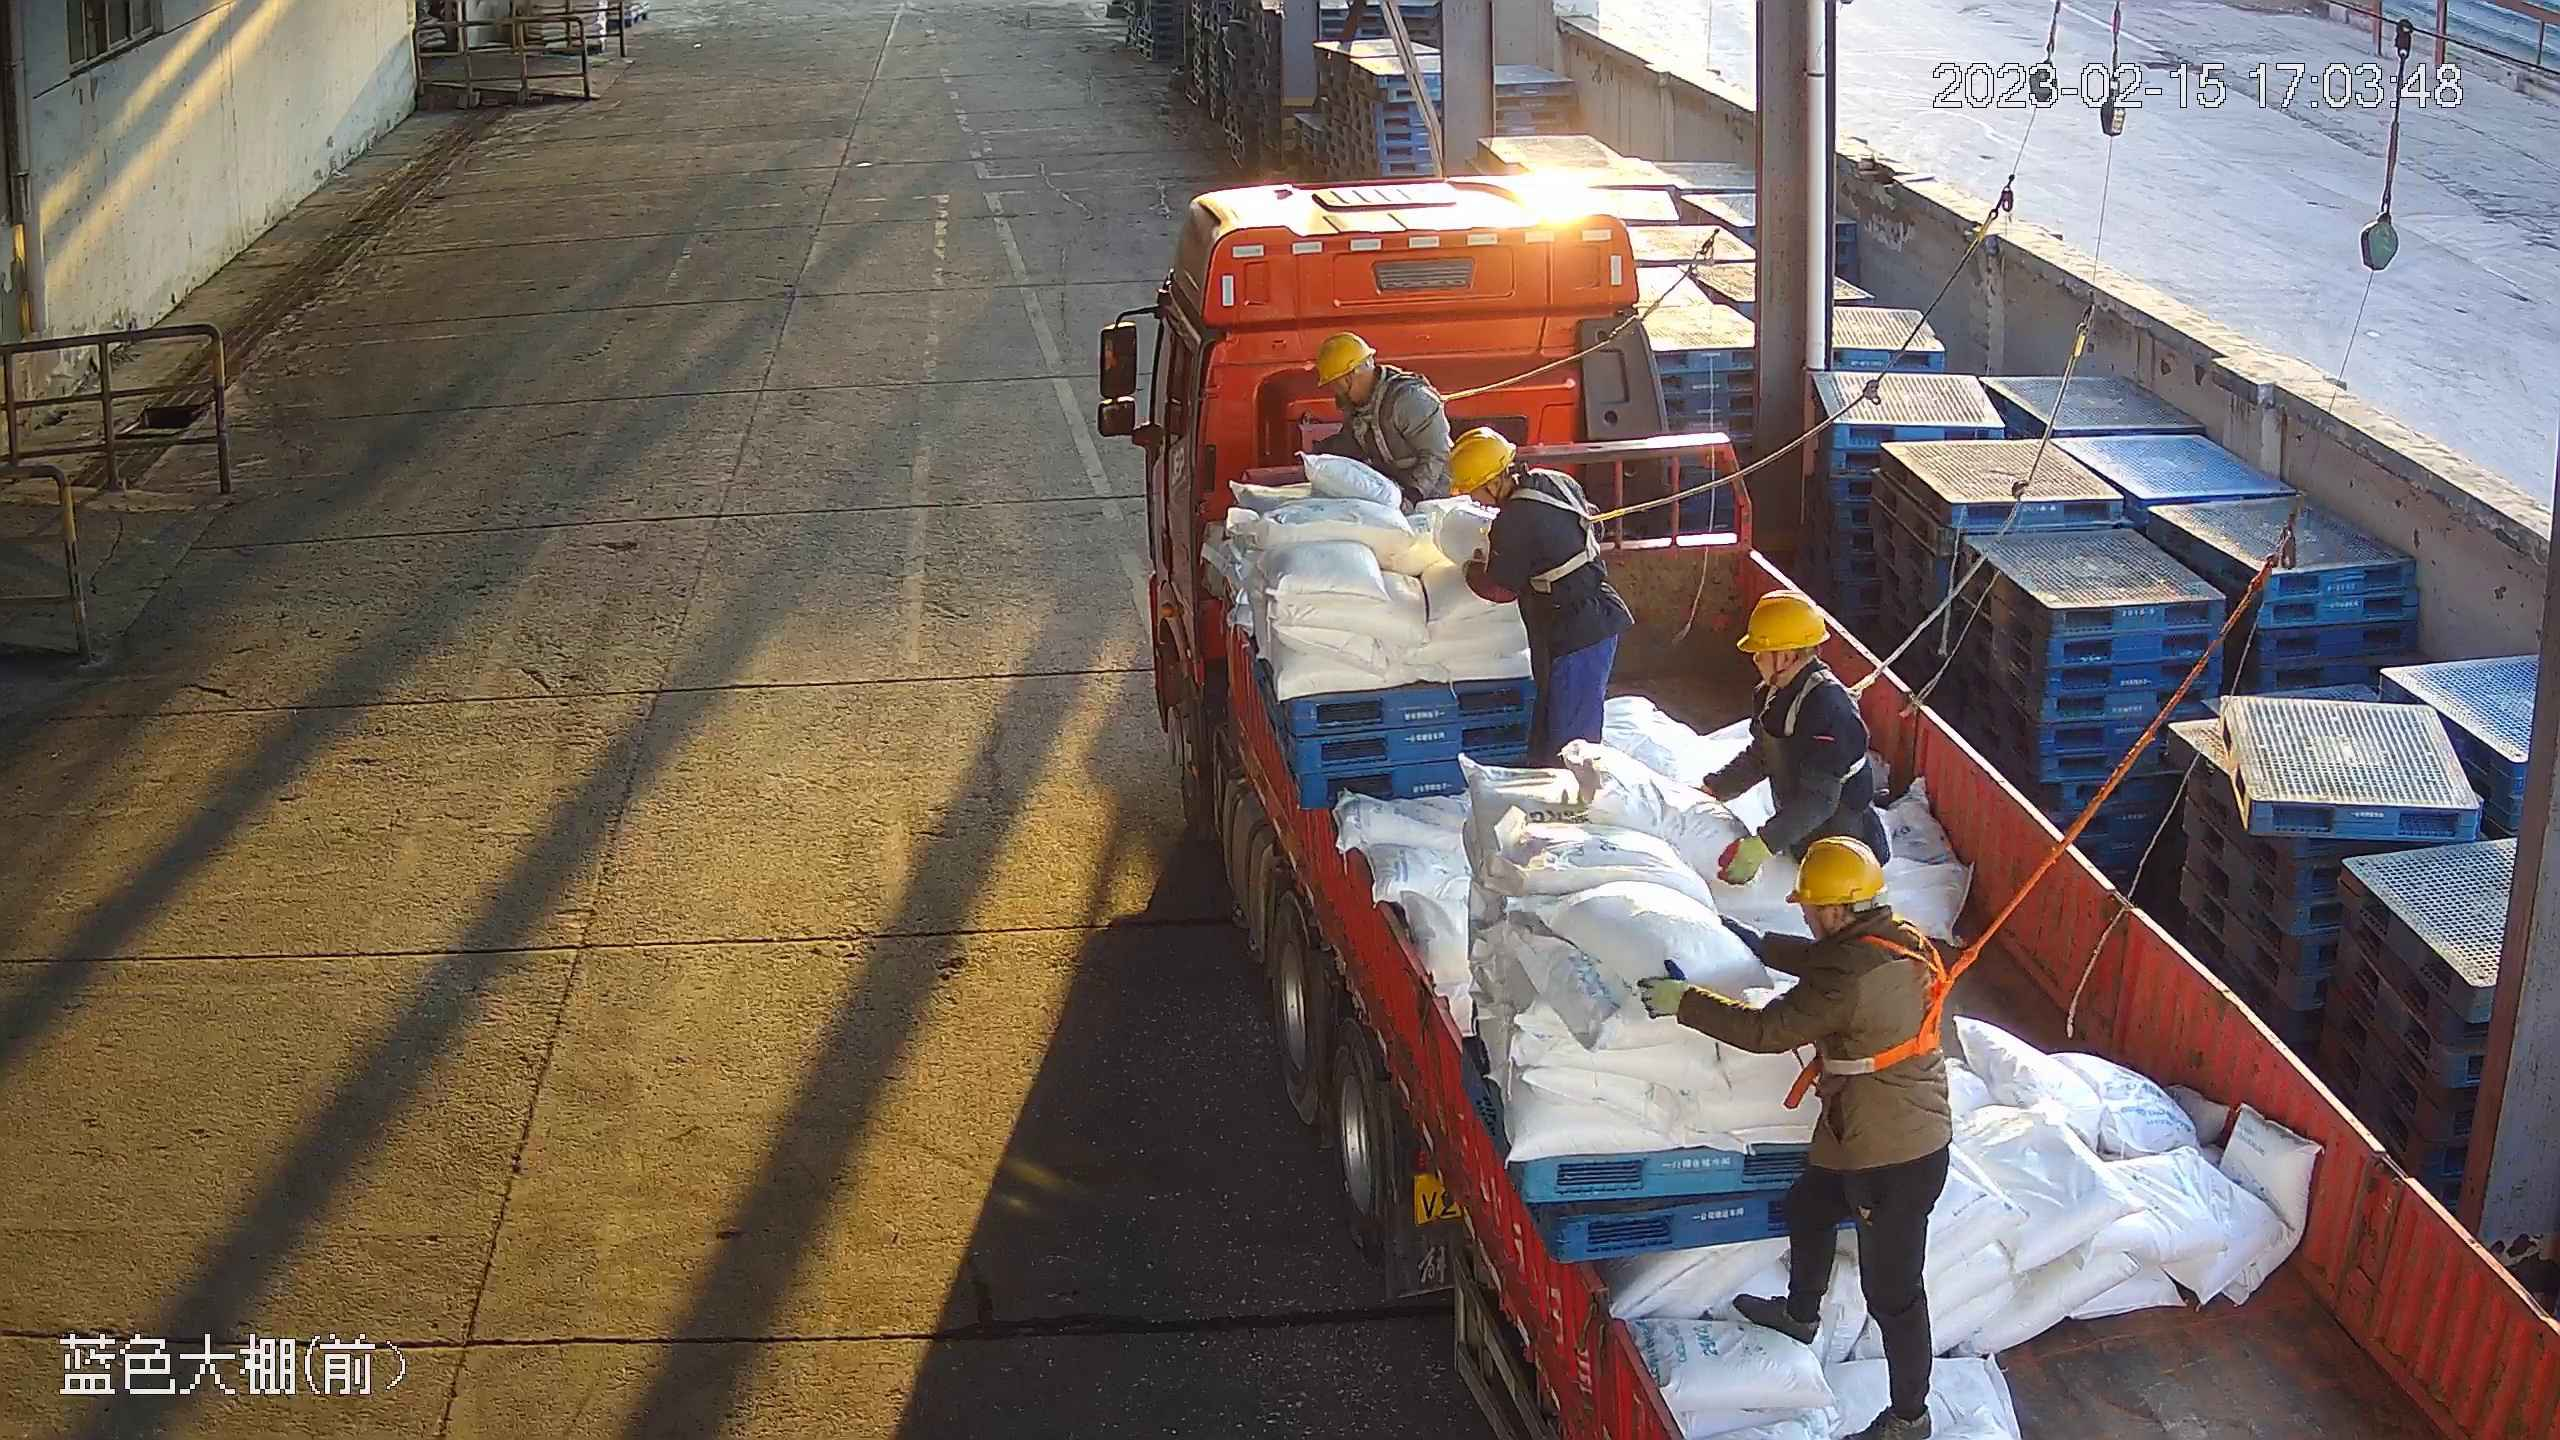belt: (1823, 936, 1979, 1076), (1525, 478, 1629, 581), (1356, 383, 1430, 474), (1763, 673, 1833, 731)
head: (1793, 843, 1942, 985), (1734, 588, 1860, 730), (1446, 432, 1574, 527), (1316, 334, 1421, 420)
helmet: (1784, 836, 1888, 908), (1732, 587, 1827, 652), (1441, 432, 1520, 490), (1304, 332, 1377, 385)
people: (1683, 844, 1967, 1436), (1441, 430, 1627, 757)
truck: (1090, 178, 2560, 1440)
